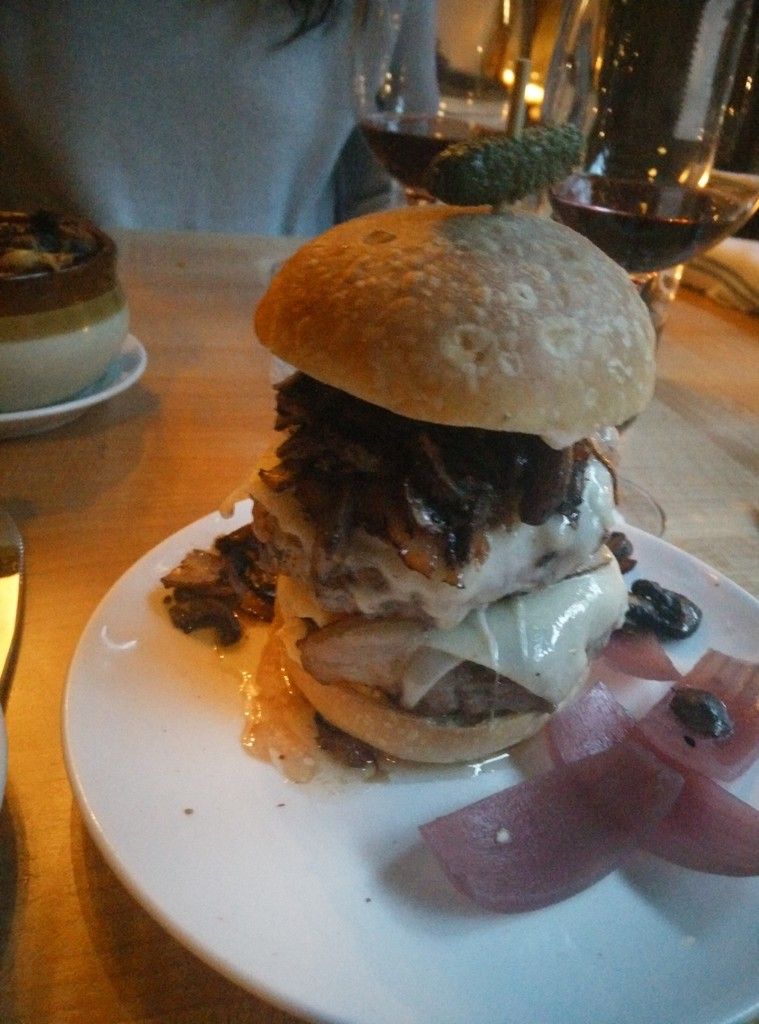Hamburger: (219, 122, 657, 768)
